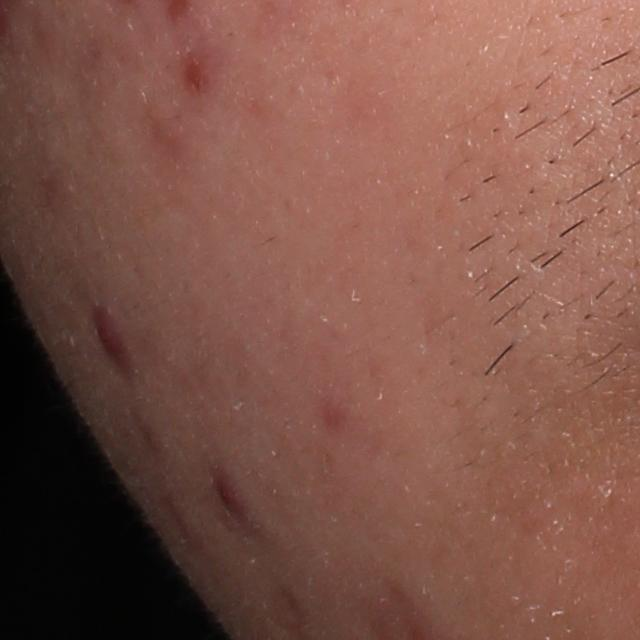papule: (92, 304, 131, 370), (212, 471, 257, 528), (180, 52, 212, 91)
